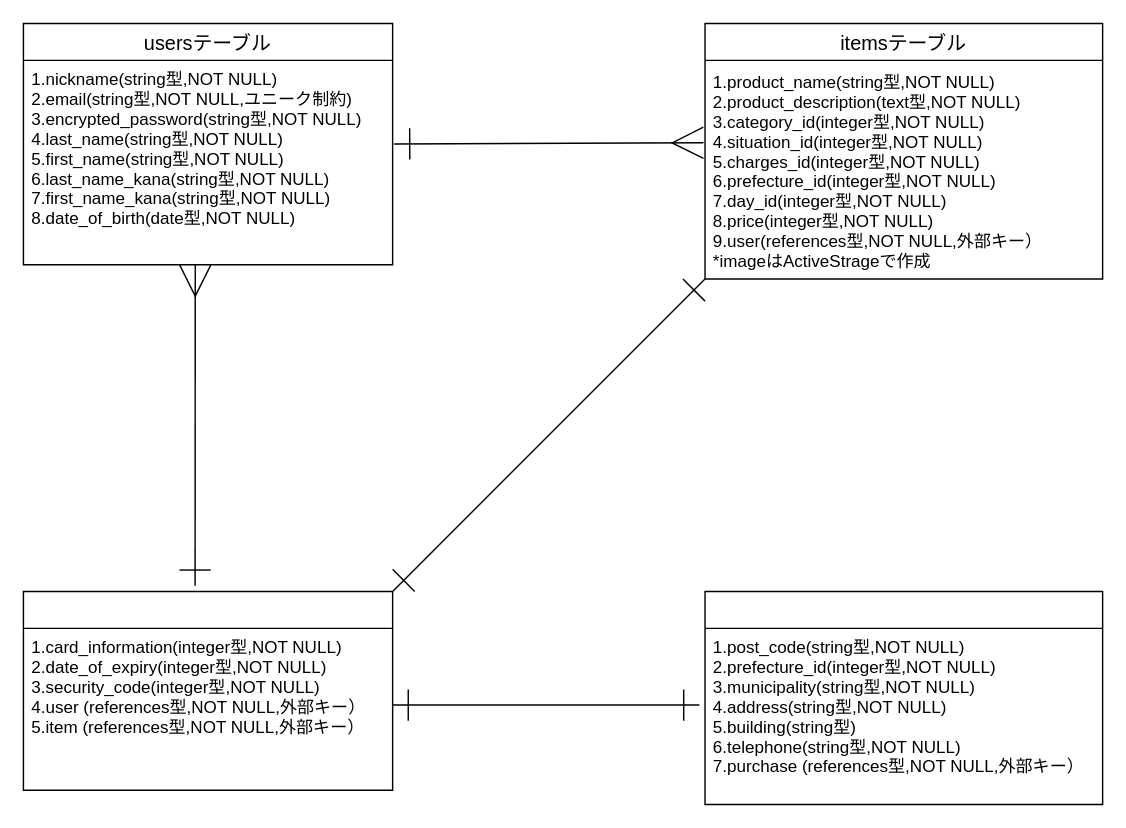
This 1126x828 diagram has some shape labels left out. The box of each missing label's shape, as (x1, y1, x2, y2) in pixels:
addressesテーブル: (704, 590, 1103, 804)
purchasesテーブル: (22, 590, 393, 790)
